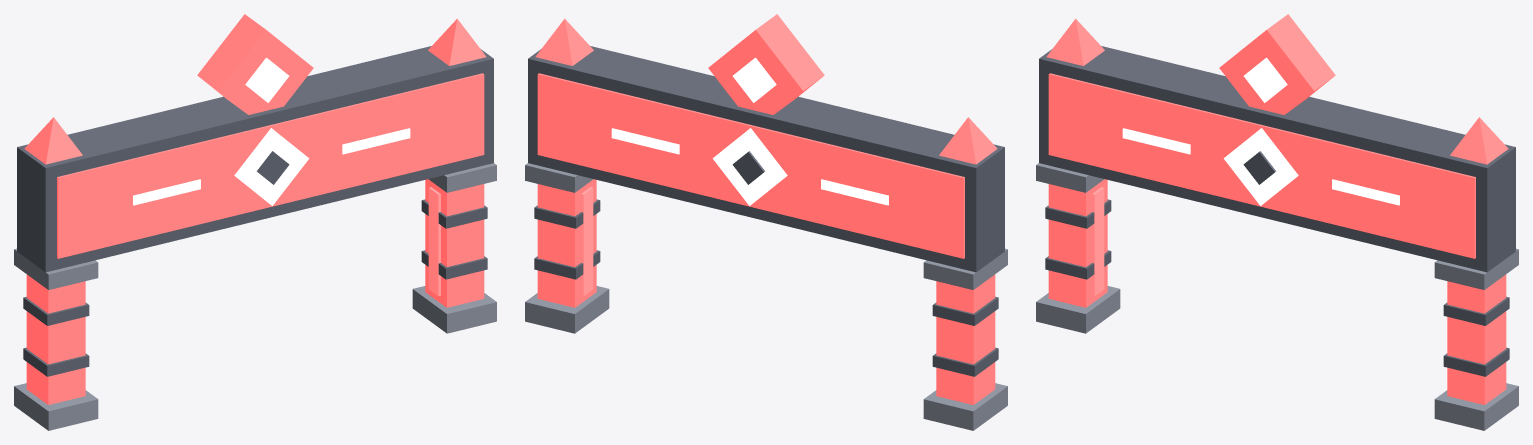
File: checkpoint_gate (2).glb
The picture shows the model from 3 angles, left to right: view 1: azimuth 30°, elevation 25°; view 2: azimuth 150°, elevation 25°; view 3: azimuth 330°, elevation 25°; orthographic projection.
Visible parts, largest first — view 1: CheckpointGate; view 2: CheckpointGate; view 3: CheckpointGate.
Boxes of the visible parts, left/top/right/bottom form: CheckpointGate: left=14, top=14, right=496, bottom=430; CheckpointGate: left=525, top=14, right=1007, bottom=430; CheckpointGate: left=1036, top=14, right=1518, bottom=430.
Bounding box in the file's own units: 6 × 4.37 × 0.8467.
